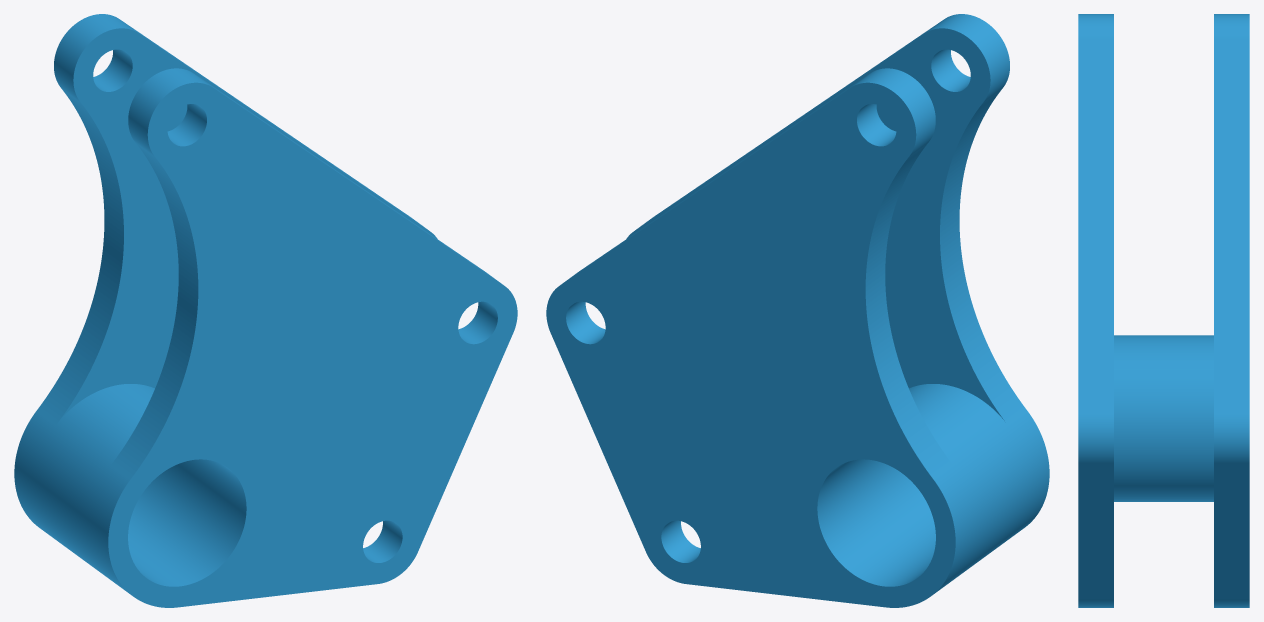
3 renders of one model, left to right at view 1: azimuth 30°, elevation 25°; view 2: azimuth 150°, elevation 25°; view 3: azimuth 270°, elevation 25°, orthographic. The views are drawn at different scales.
Visible parts, largest first — view 1: Part__Feature_highres_mesh; view 2: Part__Feature_highres_mesh; view 3: Part__Feature_highres_mesh.
Boxes of the visible parts, bbox=[...] form: Part__Feature_highres_mesh: bbox=[14, 14, 517, 607]; Part__Feature_highres_mesh: bbox=[546, 14, 1049, 607]; Part__Feature_highres_mesh: bbox=[1078, 14, 1249, 607].
Size of the model in its own units: 0.0658 by 0.0841 by 0.0262.
